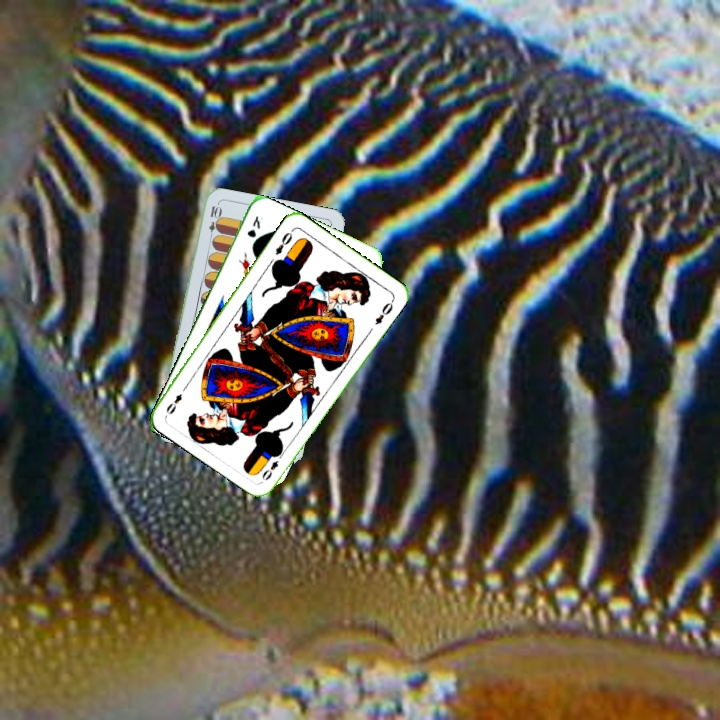E10: (204, 202, 222, 242)
EO: (258, 448, 286, 483), (271, 225, 296, 258)
GK: (243, 212, 263, 240)
